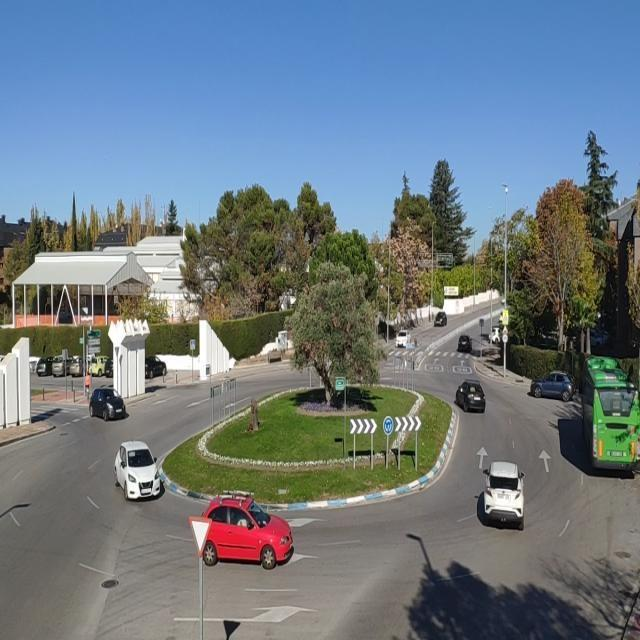Bus: (581, 355, 640, 472)
Car: (198, 492, 294, 571), (481, 461, 526, 530), (114, 442, 161, 501), (530, 370, 577, 401), (89, 388, 126, 422), (455, 380, 487, 412), (144, 356, 167, 378), (51, 355, 74, 377), (88, 355, 110, 377), (36, 356, 58, 377), (69, 356, 87, 377), (457, 335, 472, 353), (590, 328, 604, 347), (490, 325, 503, 345), (395, 331, 410, 348), (105, 358, 114, 380), (434, 312, 447, 326)
